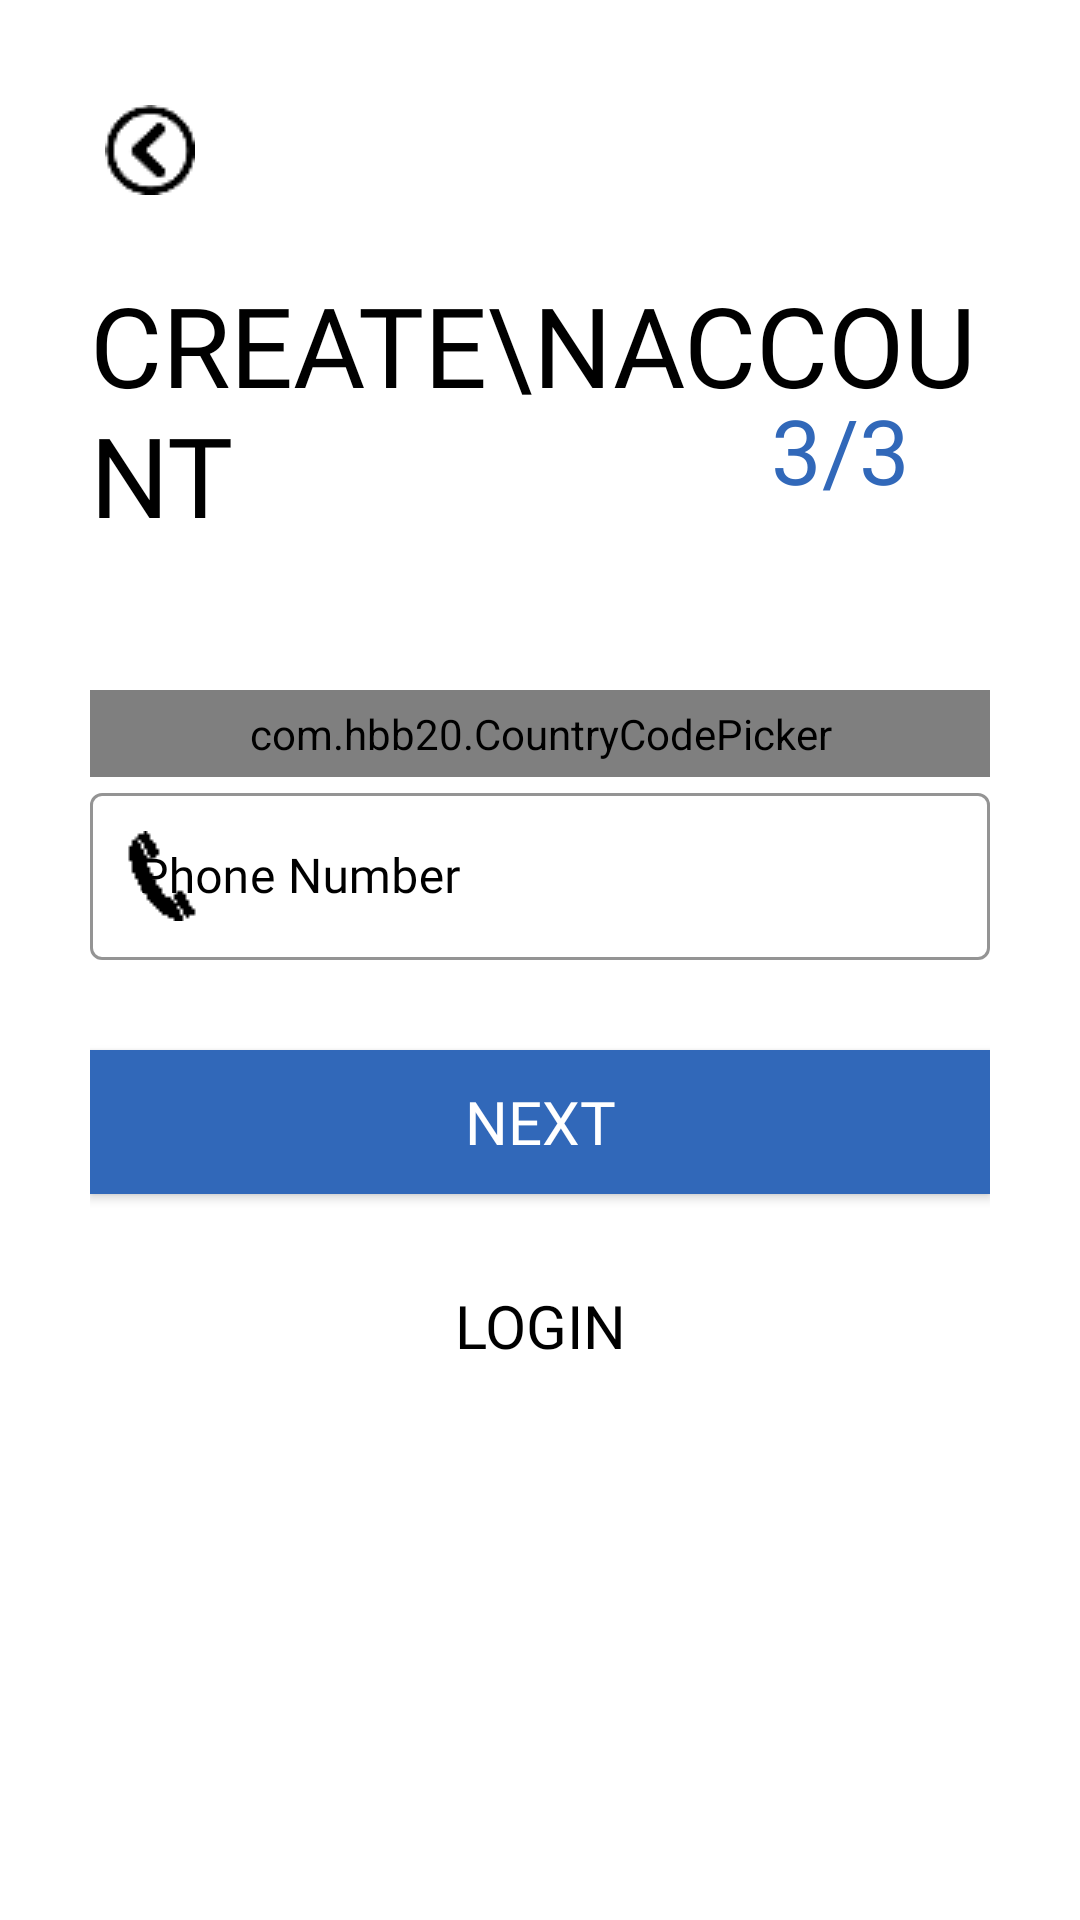

Point at icon controls on the screen. Image size 1080px×1920px, points as (x=x, y=y).
backbtn: (x=150, y=150)
